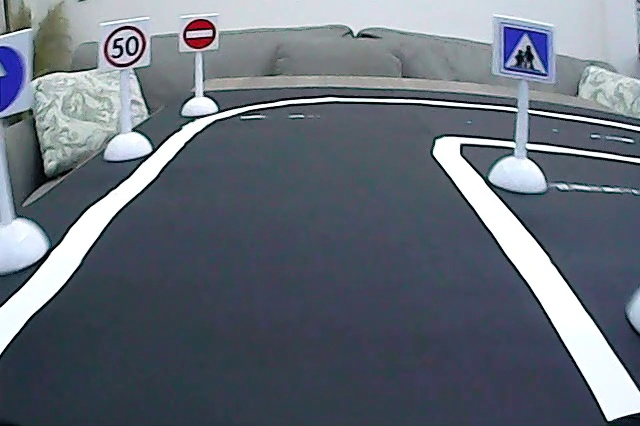do not enter: (181, 14, 220, 53)
school crossing: (498, 20, 552, 81)
speed limit 50: (100, 22, 148, 69)
